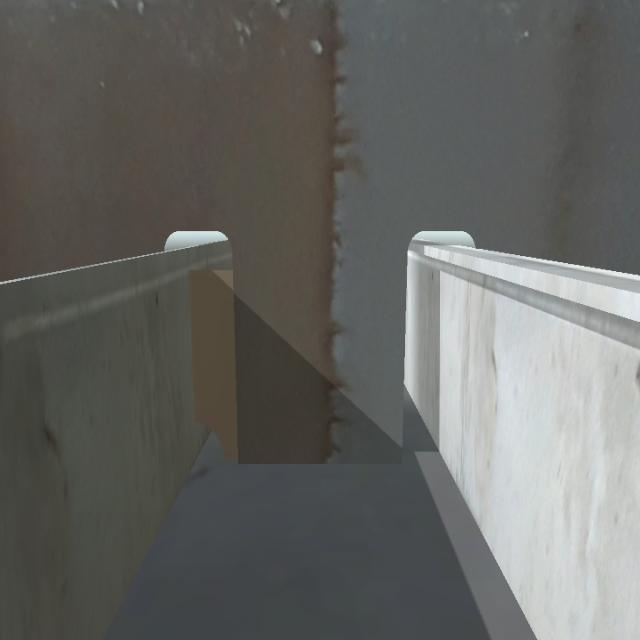fillet_hole: (188, 414, 232, 474)
fillet_yong_jeop_jang: (228, 451, 406, 466)
longi_yong_jeop_jang: (183, 273, 201, 427)
plate_behind: (186, 268, 241, 465)
